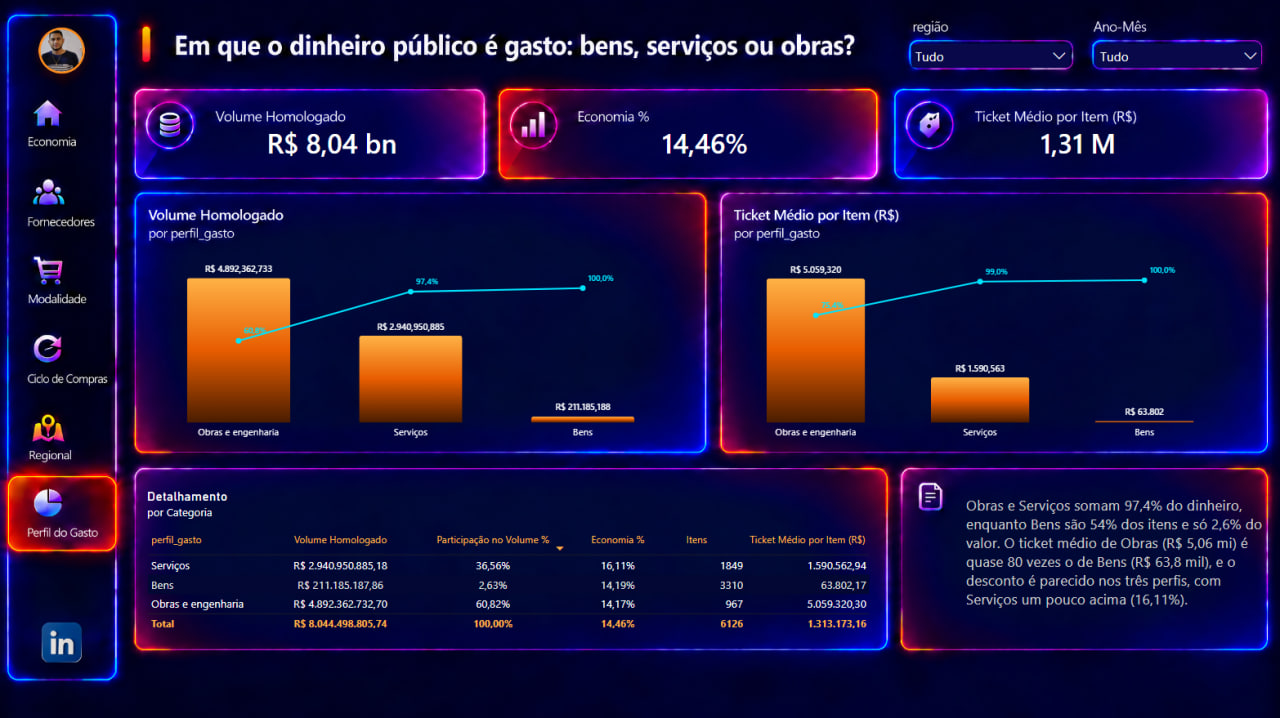

This screenshot's page, from the dashboard's own definition file:
{"tool":"powerbi","page":{"name":"perfil do gasto","canvas":[1920,1080],"ordinal":6},"visuals":[{"type":"tableEx","title":"Detalhamento","fields":{"Values":["fato_item_contratado.perfil_gasto","Medidas.P1 Volume Homologado","Medidas.P3 Participação no Volume %","Medidas.P1 Economia %","Medidas.Itens","Medidas.P6 Ticket Médio por Item (R$)"]},"box":[205.7,719.2,1125.6,252.5],"z":0},{"type":"cardVisual","fields":{"Data":["Medidas.P1 Volume Homologado","Medidas.P1 Economia %","Medidas.P6 Ticket Médio por Item (R$)"]},"box":[223.7,151.2,1665.6,128.9],"z":1000},{"type":"textbox","box":[1445.3,742.3,444.5,214.7],"z":3000},{"type":"deneb7E15AEF80B9E4D4F8E12924291ECE89A","title":"Volume Homologado","fields":{"dataset":["fato_item_contratado.perfil_gasto","Medidas.P6 Ticket Médio por Item (R$)"]},"box":[1073.7,362.9,816.2,314.4],"z":4000},{"type":"deneb7E15AEF80B9E4D4F8E12924291ECE89A","title":"Volume Homologado","fields":{"dataset":["fato_item_contratado.perfil_gasto","Medidas.P1 Volume Homologado"]},"box":[205.7,362.9,851.3,314.4],"z":5000},{"type":"slicer","fields":{"Values":["Calendario.Ano-Mês"]},"box":[1634,63.6,255.9,48.5],"z":5001},{"type":"slicer","title":"região","fields":{"Values":["dim_localidade.regiao"]},"box":[1358,63.6,245.9,48.5],"z":5002},{"type":"shape","title":"linkedin","box":[51.4,916.7,88.9,79.2],"z":5003},{"type":"shape","title":"1_modalidade","box":[12.5,379.2,162.5,95.8],"z":5004},{"type":"shape","title":"1_fornecedores","box":[12.5,255.6,162.5,106.9],"z":5005},{"type":"shape","title":"1_ciclo","box":[12.5,486.1,162.5,106.9],"z":5006},{"type":"shape","title":"1_regional","box":[12.5,611.1,162.5,88.9],"z":5007},{"type":"shape","title":"1_economia","box":[11.1,133.3,166.7,106.9],"z":5008},{"type":"shape","box":[31.9,31.9,133.3,101.4],"z":5009}]}

Visuals, with their boxes on the page's 1920x1080 design canvas (x1, y1, x2, y2). These are canvas units, not pixel positions in the 1280x718 screenshot, which may show the page scaled, cropped or inside an application window:
"Detalhamento" tableEx: {"left": 206, "top": 719, "right": 1331, "bottom": 972}
cardVisual - Medidas.P1 Volume Homologado x Medidas.P1 Economia %: {"left": 224, "top": 151, "right": 1889, "bottom": 280}
textbox: {"left": 1445, "top": 742, "right": 1890, "bottom": 957}
"Volume Homologado" deneb7E15AEF80B9E4D4F8E12924291ECE89A: {"left": 1074, "top": 363, "right": 1890, "bottom": 677}
"Volume Homologado" deneb7E15AEF80B9E4D4F8E12924291ECE89A: {"left": 206, "top": 363, "right": 1057, "bottom": 677}
slicer - Calendario.Ano-Mês: {"left": 1634, "top": 64, "right": 1890, "bottom": 112}
"região" slicer: {"left": 1358, "top": 64, "right": 1604, "bottom": 112}
"linkedin" shape: {"left": 51, "top": 917, "right": 140, "bottom": 996}
"1_modalidade" shape: {"left": 12, "top": 379, "right": 175, "bottom": 475}
"1_fornecedores" shape: {"left": 12, "top": 256, "right": 175, "bottom": 362}
"1_ciclo" shape: {"left": 12, "top": 486, "right": 175, "bottom": 593}
"1_regional" shape: {"left": 12, "top": 611, "right": 175, "bottom": 700}
"1_economia" shape: {"left": 11, "top": 133, "right": 178, "bottom": 240}
shape: {"left": 32, "top": 32, "right": 165, "bottom": 133}
